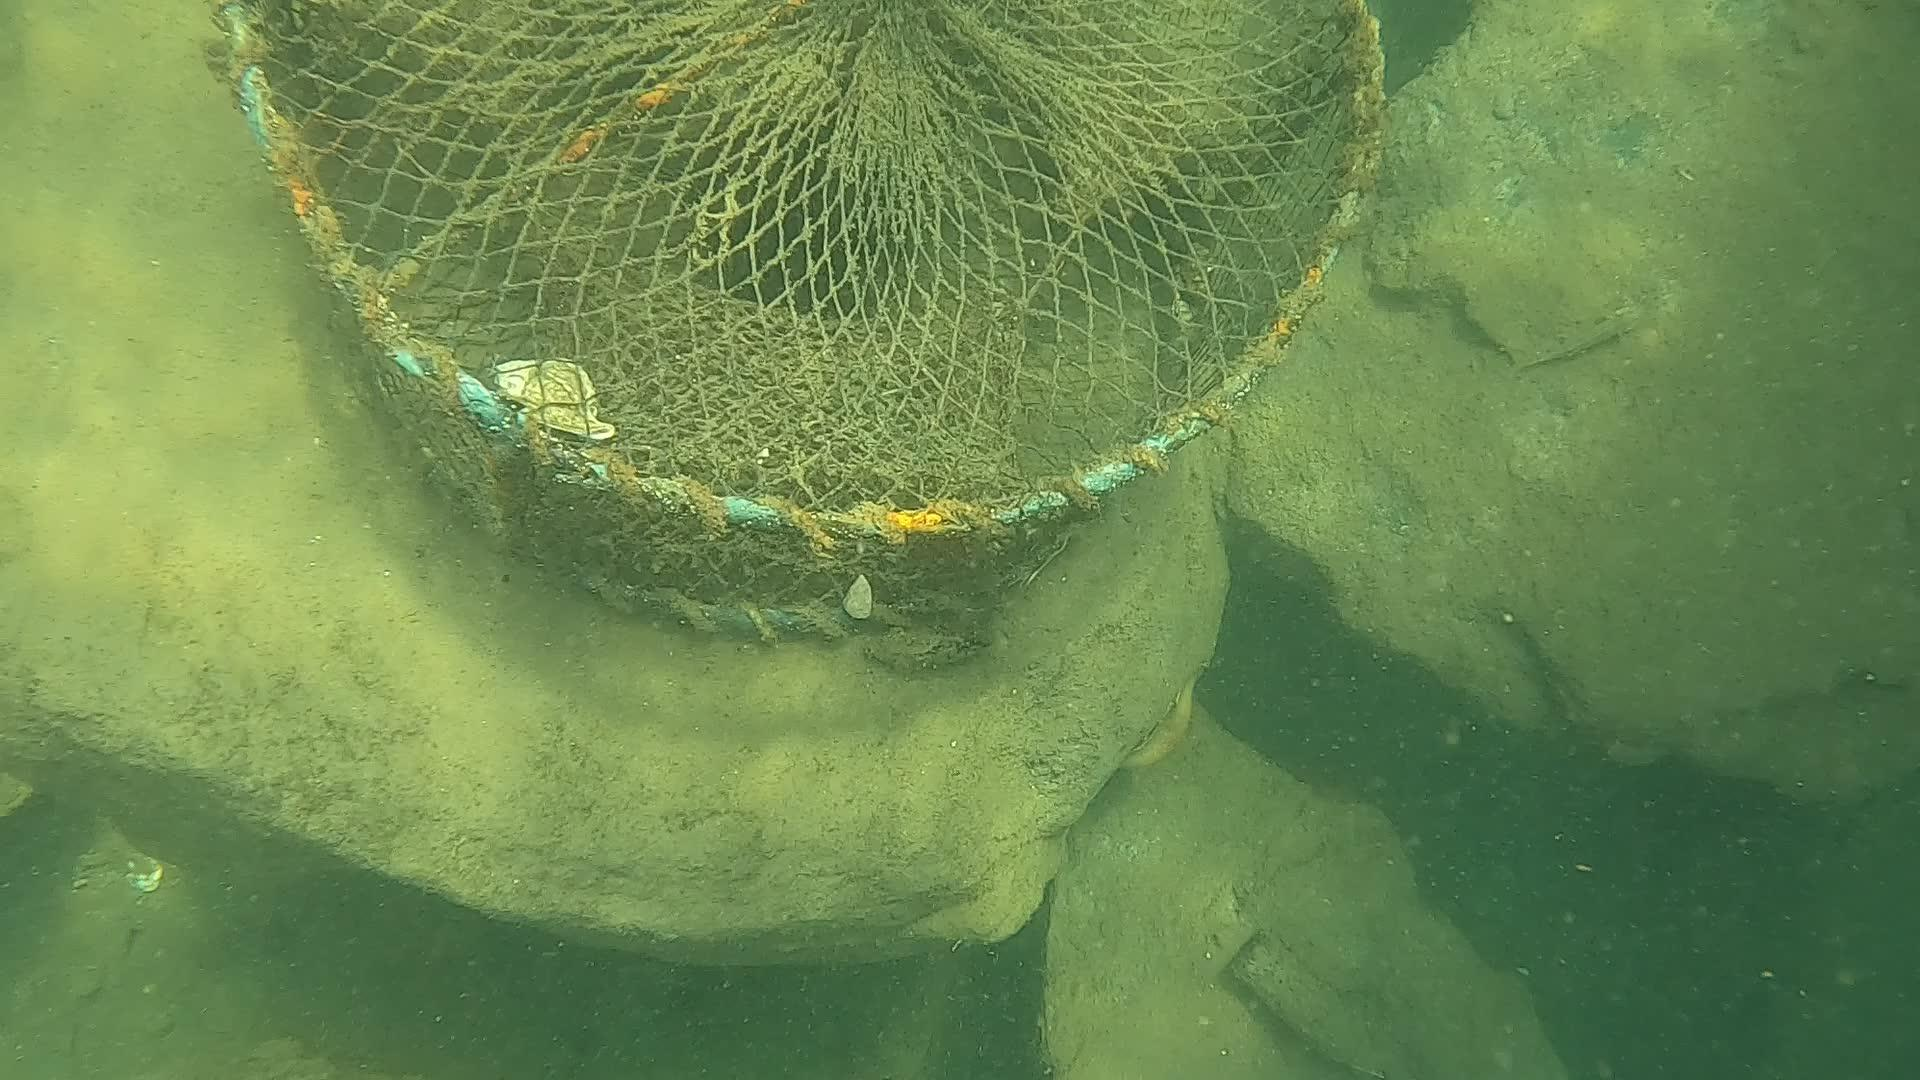circular fish trap: (216, 5, 1385, 640)
